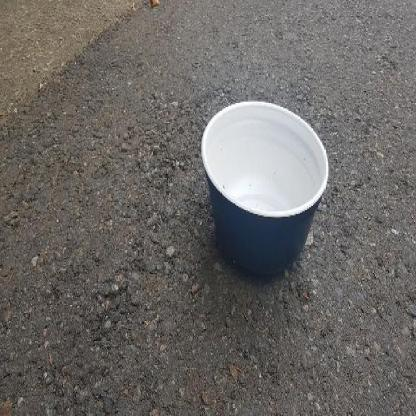Glass Cup: (201, 99, 329, 276), (202, 100, 329, 275)
